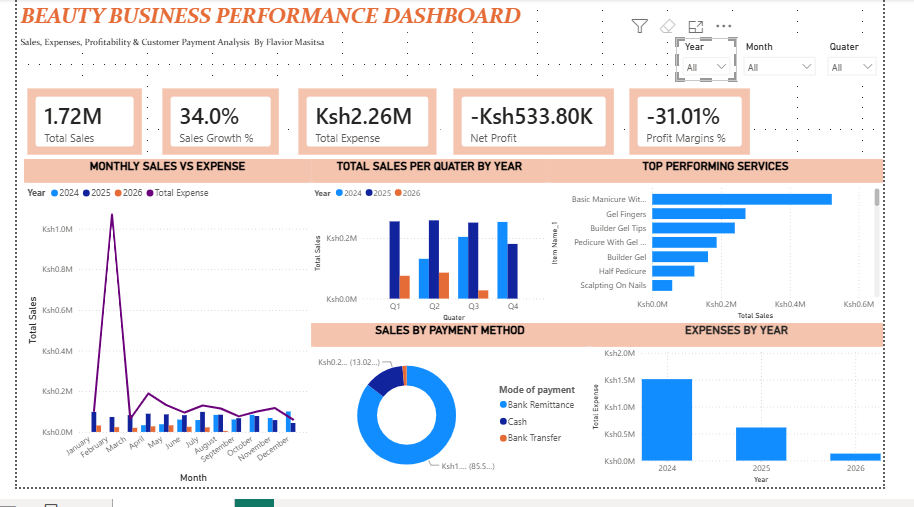

The dashboard page shown, as its layout file describes it:
{"tool":"powerbi","page":{"name":"BEAUTY SALOON ","canvas":[1280,720],"ordinal":0},"visuals":[{"type":"textbox","box":[0,0,757.7,48.7],"z":0},{"type":"textbox","box":[0,48.7,472.6,28.1],"z":1000},{"type":"slicer","fields":{"Values":["DateTable.Year"]},"box":[973.3,57.6,90.1,63.5],"z":2000},{"type":"slicer","fields":{"Values":["DateTable.Month"]},"box":[1063.4,57.6,125.5,63.5],"z":3000},{"type":"slicer","fields":{"Values":["DateTable.Quater"]},"box":[1187.4,57.6,91.6,63.5],"z":4000},{"type":"cardVisual","fields":{"Data":["Sales.Total Sales"]},"box":[10.3,126.5,179.4,108.8],"z":5000},{"type":"cardVisual","fields":{"Data":["Sales.Sales Growth %"]},"box":[210.3,126.5,182.4,108.8],"z":6000},{"type":"cardVisual","fields":{"Data":["Expense.Total Expense"]},"box":[410.3,126.5,214.7,108.8],"z":7000},{"type":"cardVisual","fields":{"Data":["Sales.Net Profit"]},"box":[639.7,126.5,247.1,108.8],"z":8000},{"type":"cardVisual","fields":{"Data":["Sales.Profit Margins %"]},"box":[900,126.5,188.2,108.8],"z":9000},{"type":"clusteredColumnChart","title":"TOTAL SALES PER QUATER BY YEAR","fields":{"Y":["Sales.Total Sales"],"Series":["DateTable.Year"],"Category":["DateTable.Quater"]},"box":[434.2,234.8,350,242.2],"z":10000},{"type":"clusteredBarChart","title":"TOP PERFORMING SERVICES","fields":{"Category":["Sales.Item Name_1"],"Y":["Sales.Total Sales"]},"box":[785.2,234.8,494.8,242.2],"z":11000},{"type":"donutChart","title":"SALES BY PAYMENT METHOD","fields":{"Category":["Sales.Mode of payment"],"Y":["Sales.Total Sales"]},"box":[434.2,478.5,410.6,242.2],"z":12000},{"type":"clusteredColumnChart","title":"EXPENSES BY YEAR","fields":{"Category":["DateTable.Year"],"Y":["Expense.Total Expense"]},"box":[844.8,478.5,435.7,242.2],"z":13000},{"type":"lineClusteredColumnComboChart","title":"MONTHLY SALES VS EXPENSE","fields":{"Category":["DateTable.Month"],"Y":["Sales.Total Sales"],"Y2":["Expense.Total Expense"],"Series":["DateTable.Year"]},"box":[10.3,236.3,423.9,484.4],"z":14000}]}

Visuals, with their boxes in screenshot pixels (x1, y1, x2, y2), scaled from the page's 1280x720 canvas onto the 914x507 screenshot:
textbox: [x1=0, y1=0, x2=541, y2=34]
textbox: [x1=0, y1=34, x2=337, y2=54]
slicer - DateTable.Year: [x1=695, y1=41, x2=759, y2=85]
slicer - DateTable.Month: [x1=759, y1=41, x2=849, y2=85]
slicer - DateTable.Quater: [x1=848, y1=41, x2=913, y2=85]
cardVisual - Sales.Total Sales: [x1=7, y1=89, x2=135, y2=166]
cardVisual - Sales.Sales Growth %: [x1=150, y1=89, x2=280, y2=166]
cardVisual - Expense.Total Expense: [x1=293, y1=89, x2=446, y2=166]
cardVisual - Sales.Net Profit: [x1=457, y1=89, x2=633, y2=166]
cardVisual - Sales.Profit Margins %: [x1=643, y1=89, x2=777, y2=166]
"TOTAL SALES PER QUATER BY YEAR" clusteredColumnChart: [x1=310, y1=165, x2=560, y2=336]
"TOP PERFORMING SERVICES" clusteredBarChart: [x1=561, y1=165, x2=913, y2=336]
"SALES BY PAYMENT METHOD" donutChart: [x1=310, y1=337, x2=603, y2=506]
"EXPENSES BY YEAR" clusteredColumnChart: [x1=603, y1=337, x2=913, y2=506]
"MONTHLY SALES VS EXPENSE" lineClusteredColumnComboChart: [x1=7, y1=166, x2=310, y2=506]
